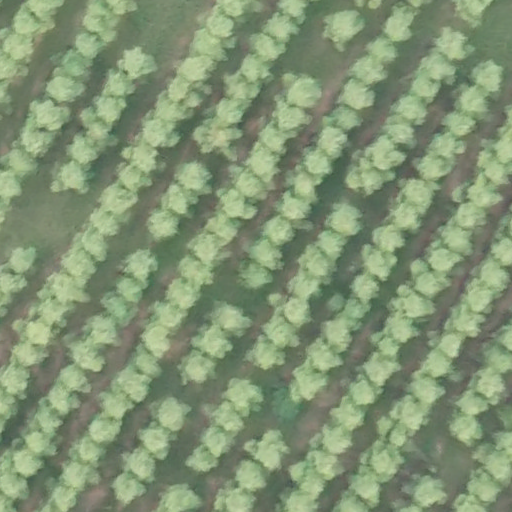eucalipto: (244, 430, 288, 472), (262, 304, 301, 348), (359, 445, 403, 484), (221, 376, 263, 416), (80, 105, 118, 149), (141, 108, 182, 148), (362, 132, 405, 170), (208, 299, 252, 336), (356, 243, 398, 281), (192, 117, 235, 154), (245, 334, 288, 371), (288, 364, 329, 402), (444, 302, 487, 338), (282, 71, 323, 108), (388, 394, 429, 431), (243, 142, 282, 180), (346, 157, 385, 195), (19, 118, 56, 158), (296, 242, 333, 282), (109, 369, 152, 403), (154, 87, 194, 123), (186, 232, 226, 268), (323, 202, 364, 237), (96, 183, 139, 216), (190, 325, 233, 358), (247, 237, 286, 273), (155, 484, 205, 512), (322, 9, 364, 42), (335, 78, 377, 111), (435, 24, 472, 61), (362, 350, 399, 387), (82, 313, 120, 349), (47, 271, 86, 306), (68, 339, 108, 373), (321, 317, 361, 351), (406, 372, 446, 406), (303, 341, 345, 373), (468, 58, 504, 95), (459, 279, 496, 315), (136, 424, 174, 459), (381, 5, 415, 44), (53, 161, 93, 194), (83, 6, 121, 40), (216, 189, 255, 222), (418, 49, 457, 82), (147, 300, 187, 332), (395, 177, 435, 209), (347, 476, 384, 510), (271, 386, 304, 424), (164, 278, 203, 310), (380, 116, 419, 148), (45, 74, 86, 104), (193, 28, 228, 63), (471, 366, 506, 401), (329, 396, 365, 430), (118, 45, 155, 78), (173, 159, 211, 191), (256, 122, 294, 154), (209, 401, 247, 433), (124, 142, 164, 172), (348, 57, 389, 86), (45, 382, 81, 415), (30, 400, 63, 436), (177, 255, 213, 288), (95, 388, 131, 421), (440, 220, 473, 256), (306, 447, 343, 479), (275, 191, 313, 222), (412, 154, 457, 180), (314, 125, 348, 159), (100, 291, 135, 324), (234, 459, 269, 492), (319, 422, 354, 455), (411, 475, 446, 508), (125, 448, 157, 484), (86, 415, 123, 446), (184, 443, 221, 474), (213, 486, 257, 512), (391, 93, 429, 123), (161, 184, 195, 217), (235, 167, 269, 200), (138, 325, 172, 358), (155, 398, 190, 430), (312, 227, 347, 259), (467, 471, 499, 506), (415, 269, 451, 300), (271, 100, 308, 130), (179, 354, 216, 384), (454, 86, 491, 116), (13, 6, 51, 35), (400, 291, 438, 320), (34, 101, 70, 131), (262, 215, 298, 245), (111, 474, 147, 504), (468, 179, 504, 209), (3, 244, 39, 274), (349, 271, 381, 304), (93, 93, 127, 124), (11, 448, 45, 479), (60, 461, 95, 491), (115, 163, 151, 192), (236, 262, 273, 290), (410, 70, 442, 102), (421, 348, 453, 380), (68, 135, 101, 166), (62, 250, 95, 281), (201, 425, 232, 458), (2, 31, 36, 61), (24, 427, 58, 457), (476, 262, 510, 292), (123, 249, 158, 278), (455, 201, 490, 230), (363, 36, 402, 62), (369, 225, 405, 253), (427, 245, 463, 273), (82, 225, 109, 262), (264, 11, 295, 43), (252, 31, 284, 62), (59, 47, 92, 77), (282, 294, 312, 327), (450, 417, 483, 447), (5, 149, 39, 178), (1, 363, 30, 397), (145, 210, 179, 239), (179, 54, 214, 82), (36, 299, 71, 327), (74, 436, 106, 466), (386, 314, 418, 344), (482, 450, 512, 482), (205, 216, 238, 245), (102, 68, 136, 96), (57, 367, 91, 395), (89, 208, 121, 237), (239, 51, 268, 83), (225, 73, 259, 100), (75, 31, 105, 61), (293, 170, 323, 200), (433, 329, 463, 359), (205, 11, 236, 40), (1, 470, 30, 501), (440, 113, 477, 137), (285, 273, 319, 299), (426, 134, 461, 159), (455, 393, 490, 418), (216, 95, 247, 123), (1, 266, 29, 297), (283, 488, 319, 512), (390, 209, 423, 235), (15, 339, 43, 369), (332, 105, 363, 132), (331, 490, 369, 512), (115, 277, 145, 304), (349, 379, 379, 406), (338, 297, 371, 321), (481, 158, 509, 186), (302, 151, 331, 178), (50, 485, 79, 511), (25, 318, 52, 345), (486, 238, 512, 265), (166, 72, 191, 100), (491, 133, 512, 166), (375, 333, 400, 360), (488, 348, 512, 375), (1, 172, 21, 204), (452, 494, 486, 512), (1, 61, 27, 84), (279, 1, 307, 20), (491, 430, 512, 454), (217, 1, 244, 17), (497, 331, 512, 352)
